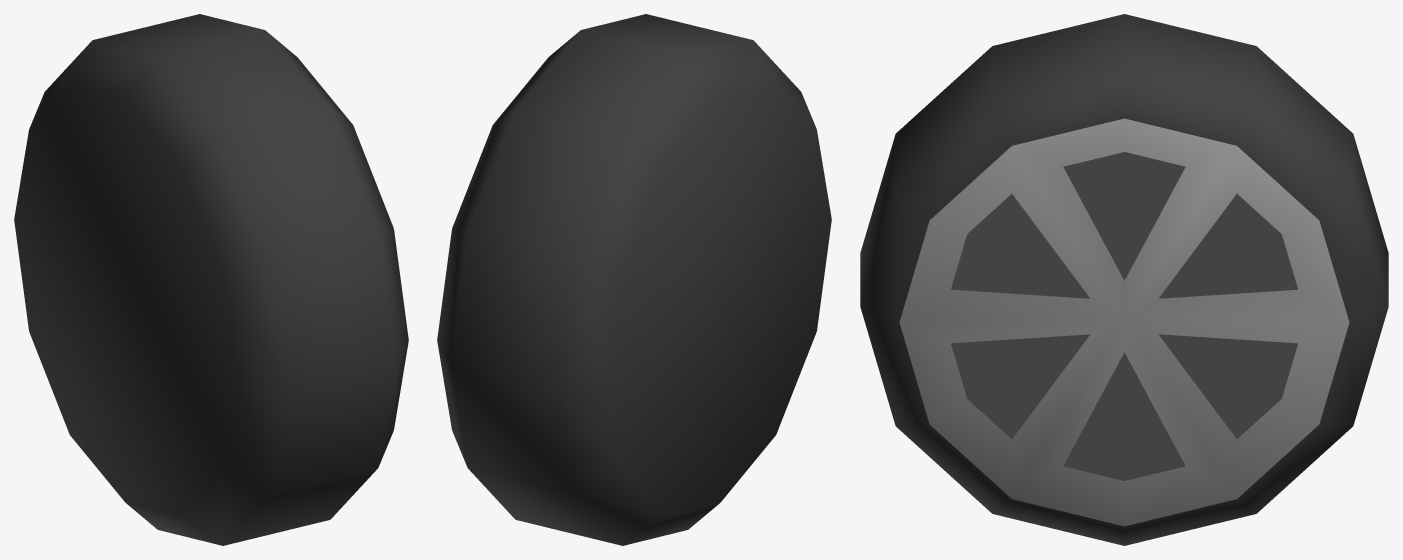
Rendered from Gyroscooter_Wheel_Left_01.fbx.
3 renders of one model, left to right at view 1: azimuth 30°, elevation 25°; view 2: azimuth 150°, elevation 25°; view 3: azimuth 270°, elevation 25°, orthographic.
Parts seen in each view (by area): view 1: Gyroscooter_Wheel_Left_01; view 2: Gyroscooter_Wheel_Left_01; view 3: Gyroscooter_Wheel_Left_01.
Part boxes in pixels (x1,y1,x2,y2): Gyroscooter_Wheel_Left_01: (14,14,408,545); Gyroscooter_Wheel_Left_01: (437,14,831,545); Gyroscooter_Wheel_Left_01: (860,14,1388,545).
Size of the model in its own units: 10.86 by 28.53 by 28.53.
